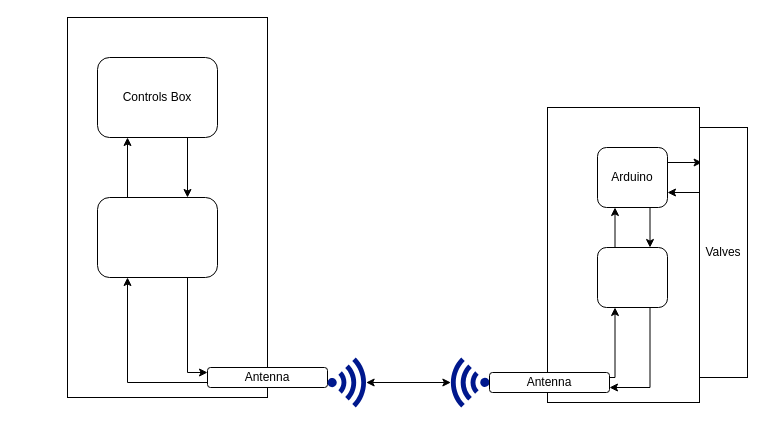
The diagram is 765 pixels wide and 425 high, and some of its shapes have lost their labels. Each missing label, with the box of its shape:
MC Laptop: (96, 196, 218, 278)
R Pi: (596, 246, 668, 308)
